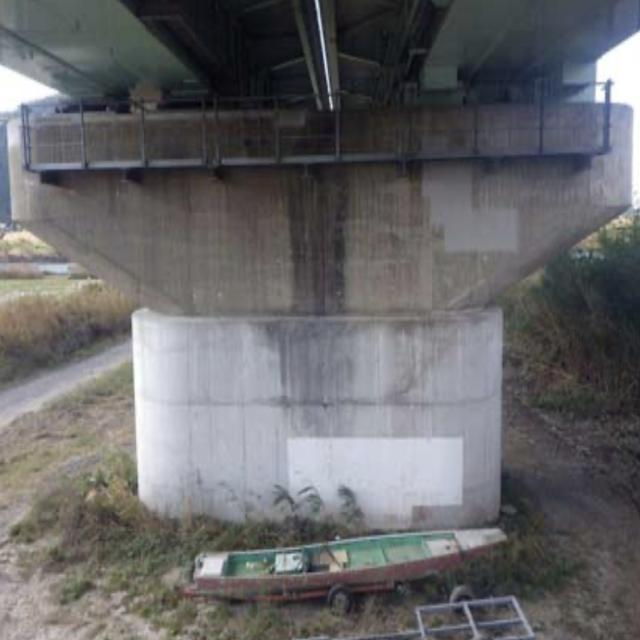leakage: (273, 103, 351, 330)
